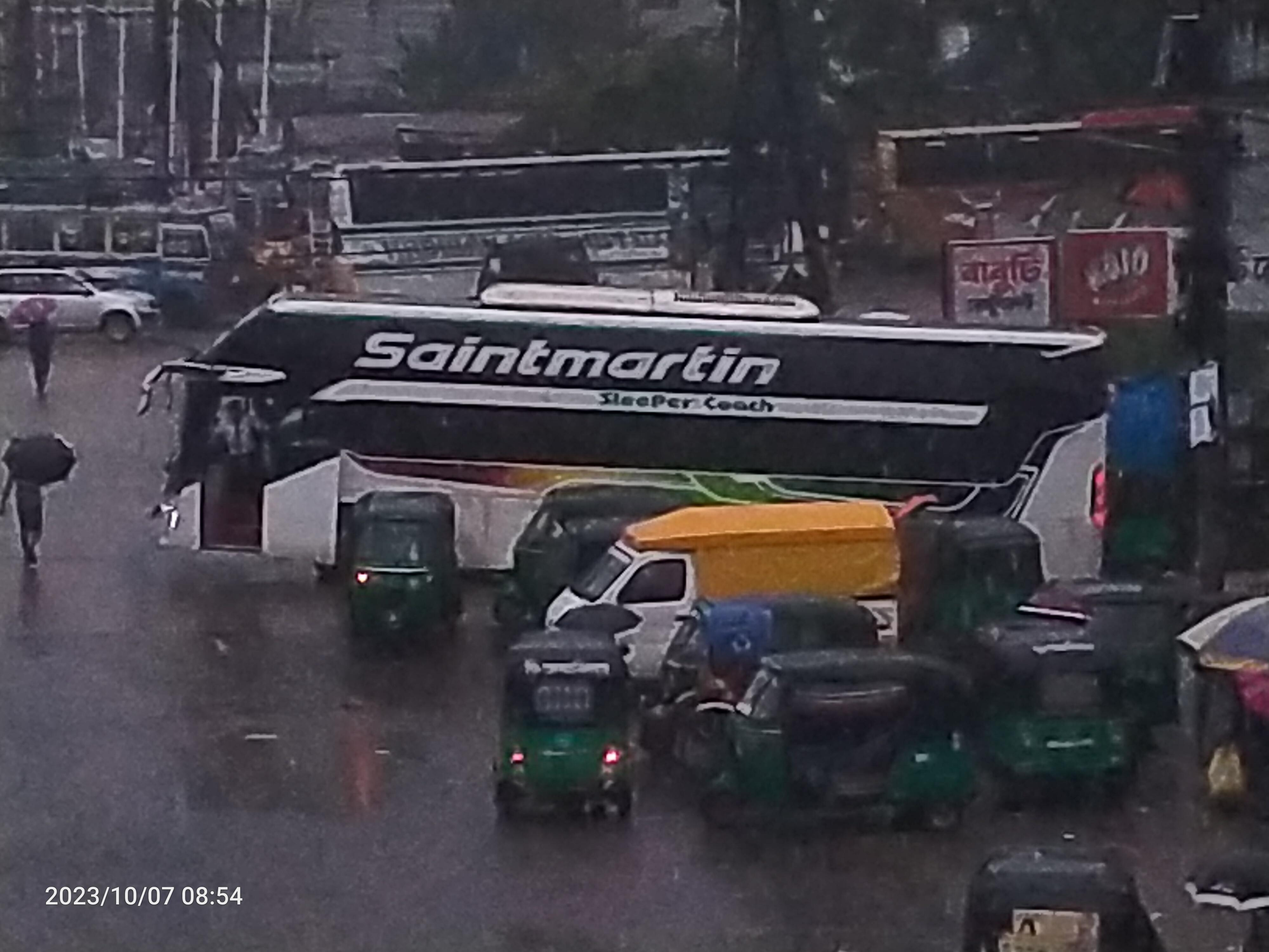Bus: (110, 276, 1124, 630), (281, 137, 784, 320), (840, 98, 1228, 284), (0, 186, 242, 307)
Car: (0, 252, 174, 355)
